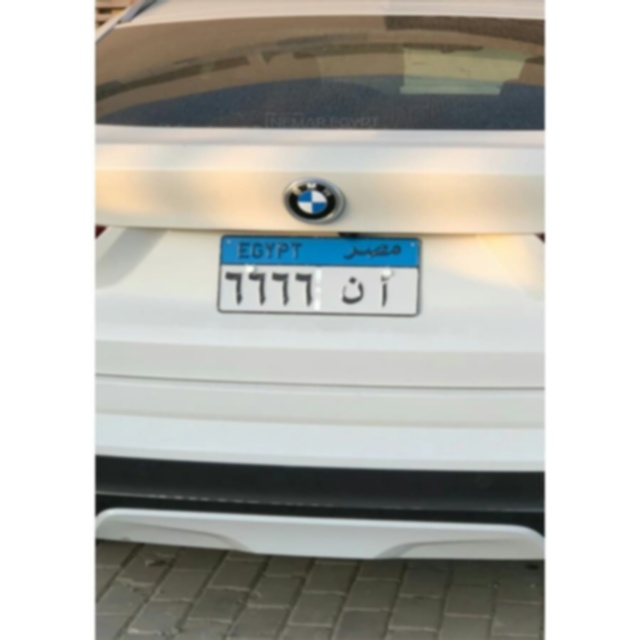License Plate: (214, 232, 423, 317)
